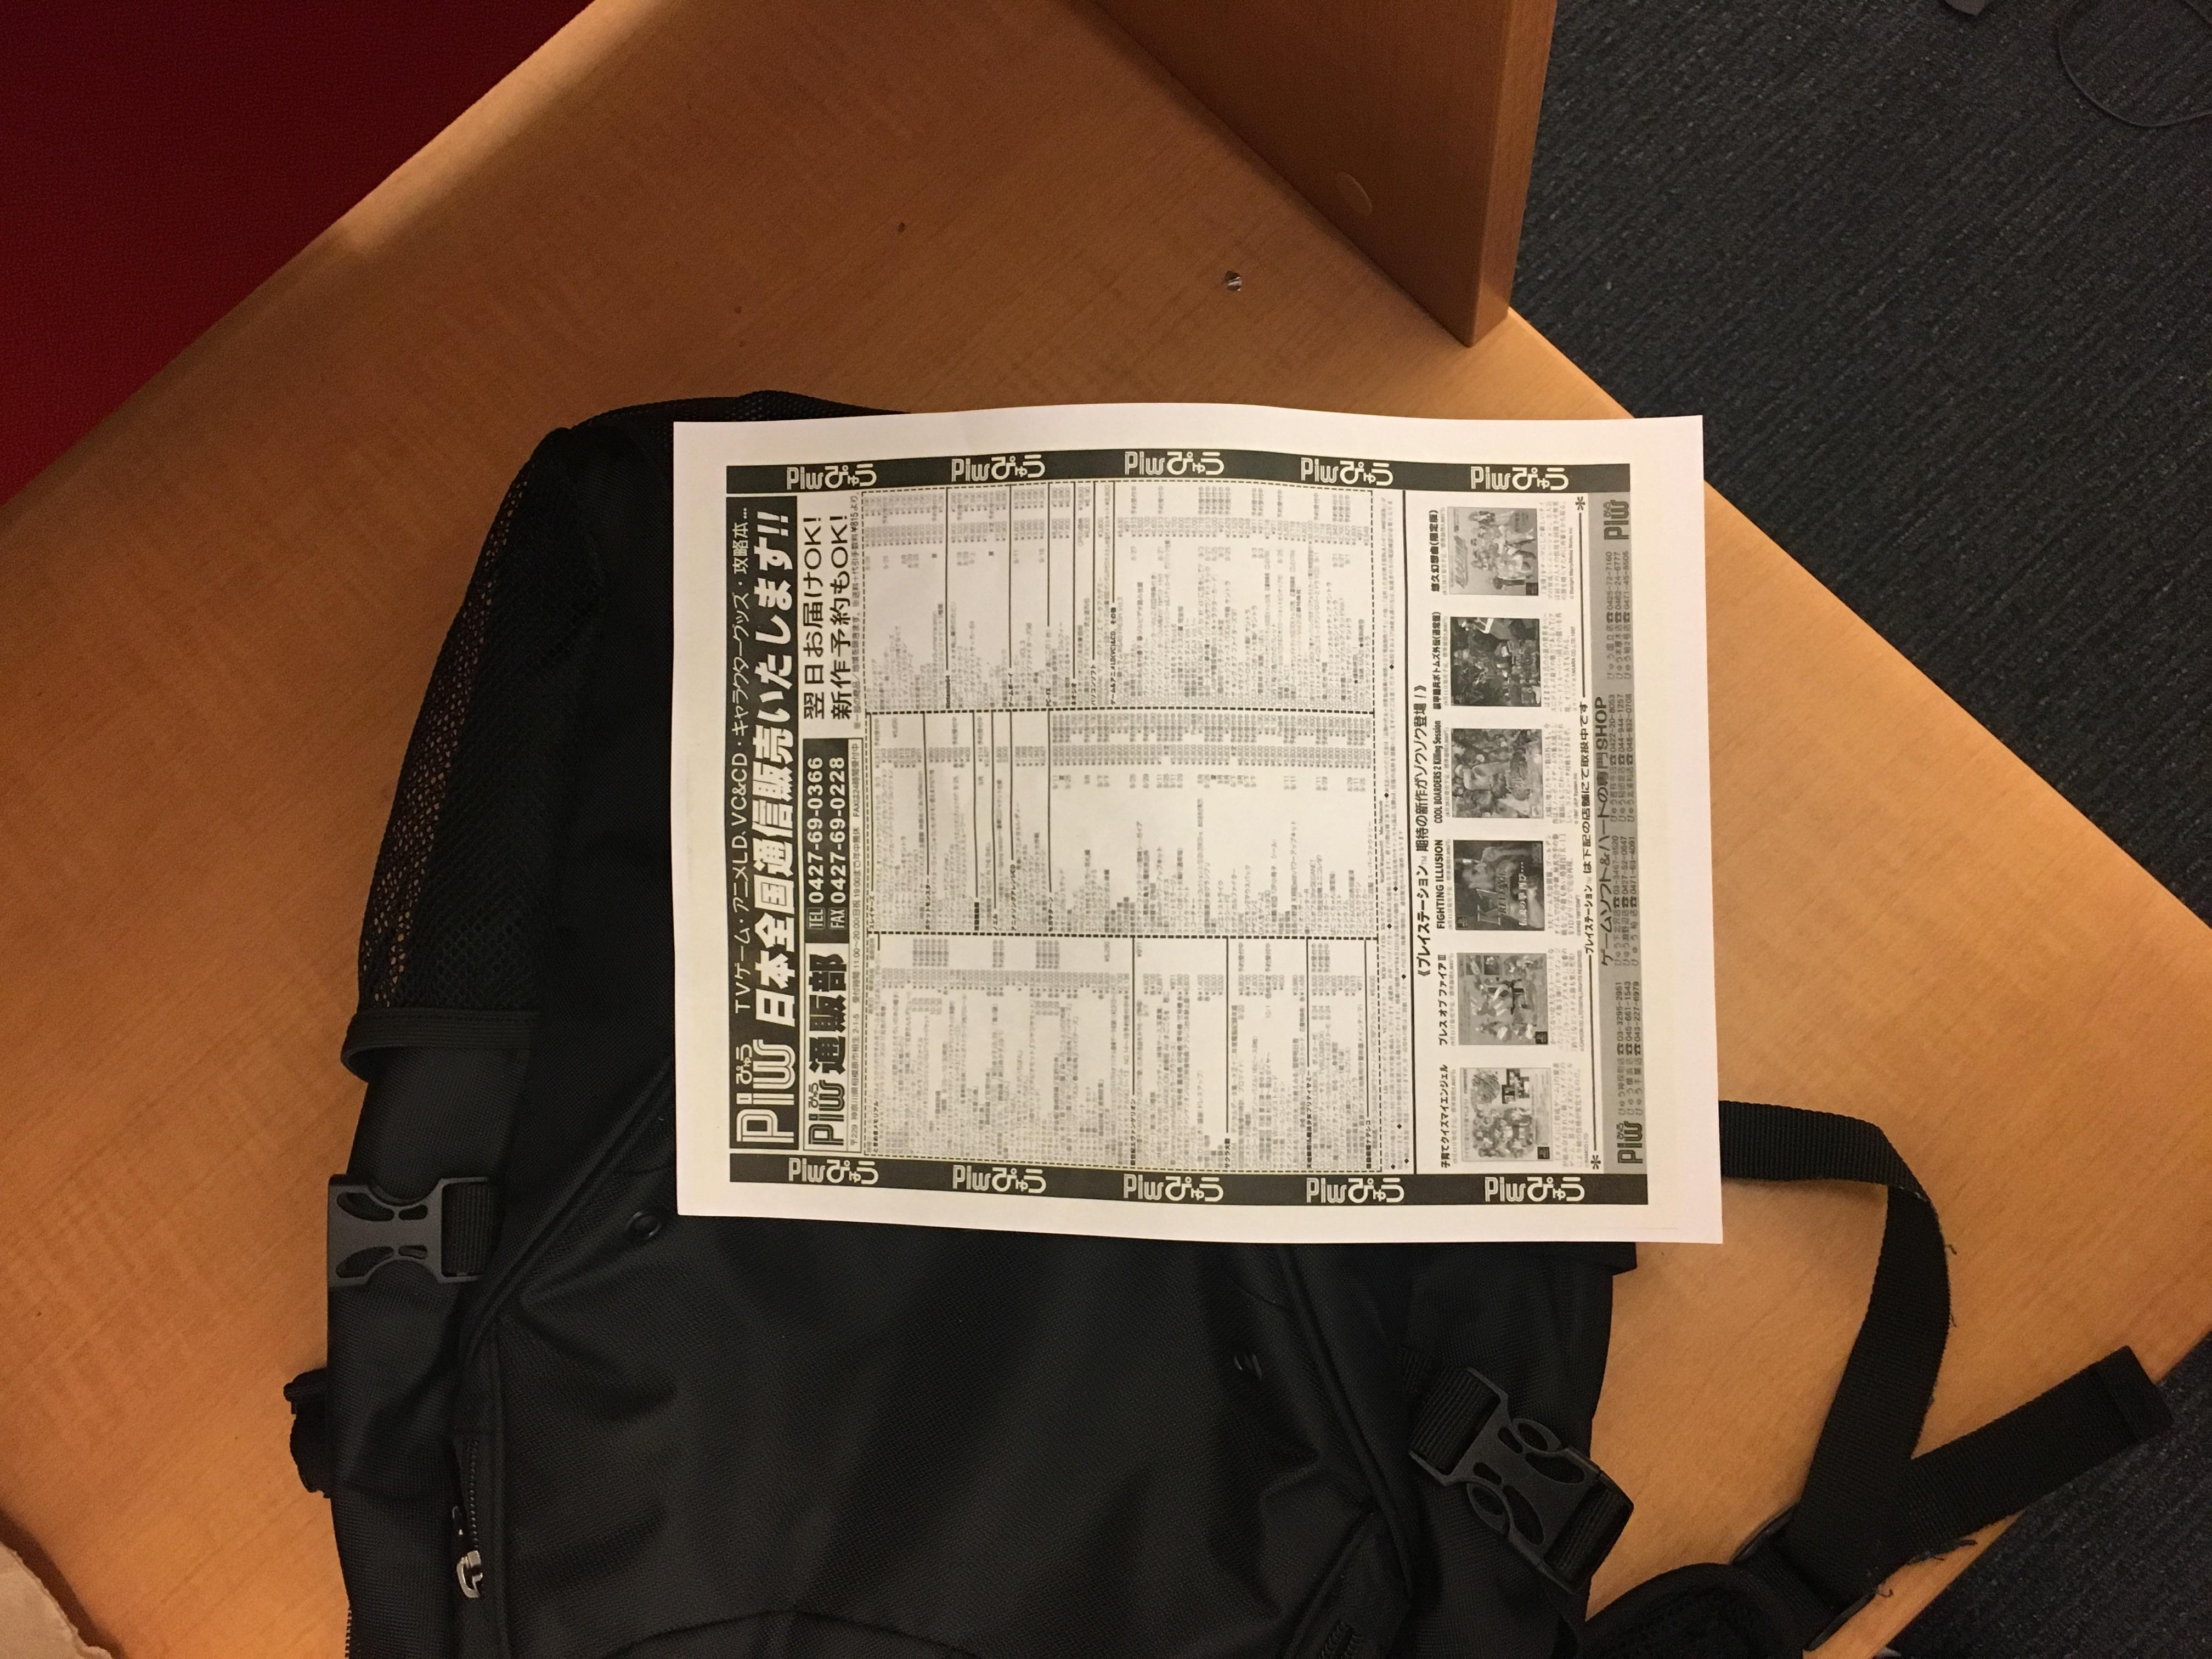paper: (380, 408, 1902, 1344)
